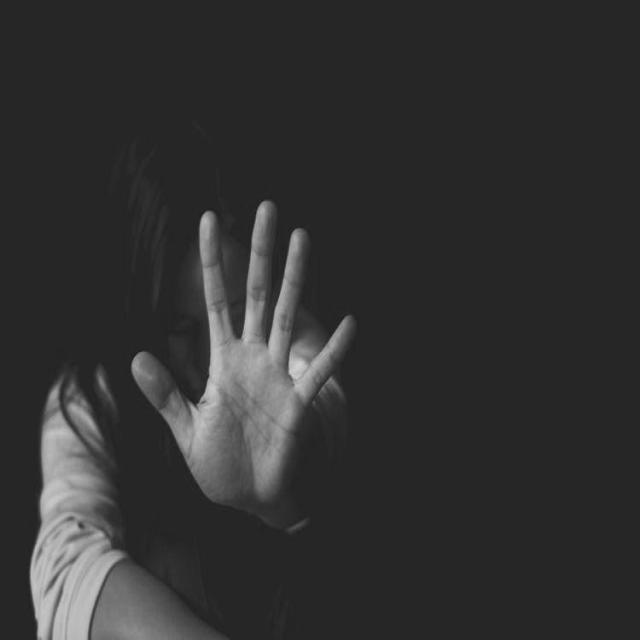stop: (128, 196, 363, 518)
